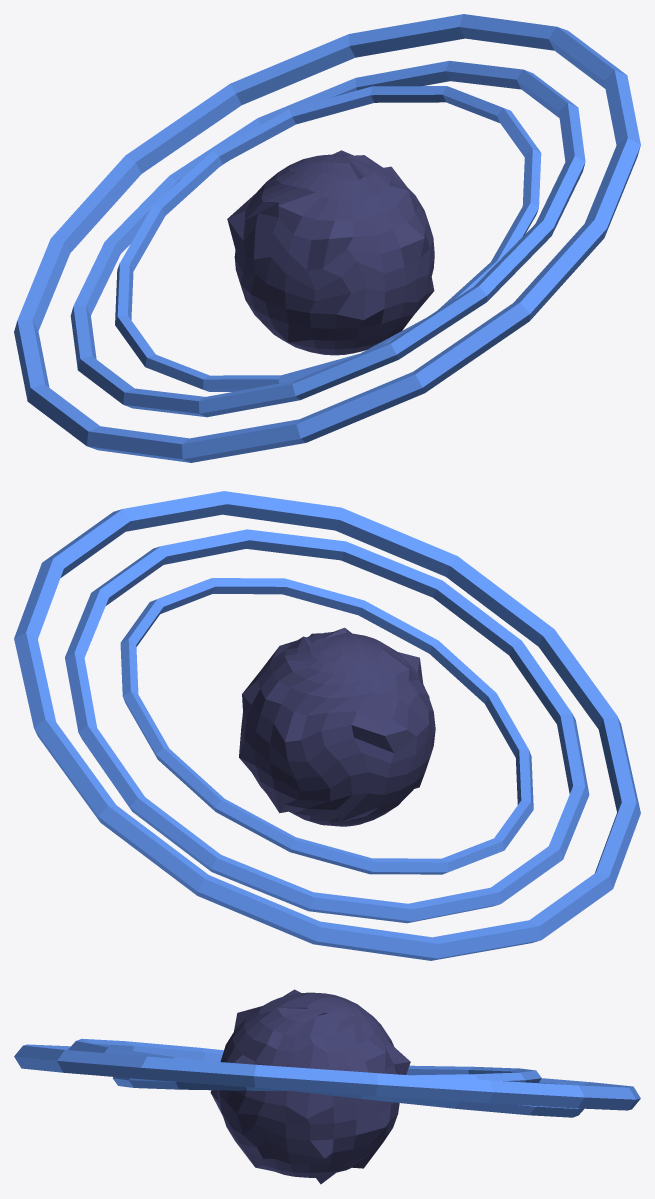
The model's file is Planet4.glb.
3 renders of one model, top to bottom at view 1: azimuth 30°, elevation 25°; view 2: azimuth 150°, elevation 25°; view 3: azimuth 270°, elevation 25°, orthographic. The views are drawn at different scales.
Visible parts, largest first — view 1: Planet4; view 2: Planet4; view 3: Planet4.
Boxes of the visible parts, <box> form: Planet4: <box>14,14,640,462</box>; Planet4: <box>14,491,640,960</box>; Planet4: <box>14,989,640,1184</box>.
Bounding box in the file's own units: 33.24 × 16.06 × 36.21.
1 material, 1 textured.
